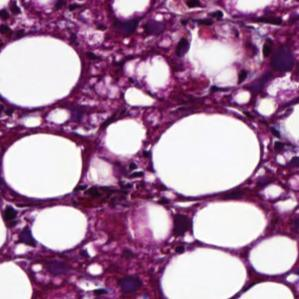inflammation: (161, 5, 233, 62), (0, 199, 39, 247), (263, 130, 299, 173), (0, 0, 26, 41)
